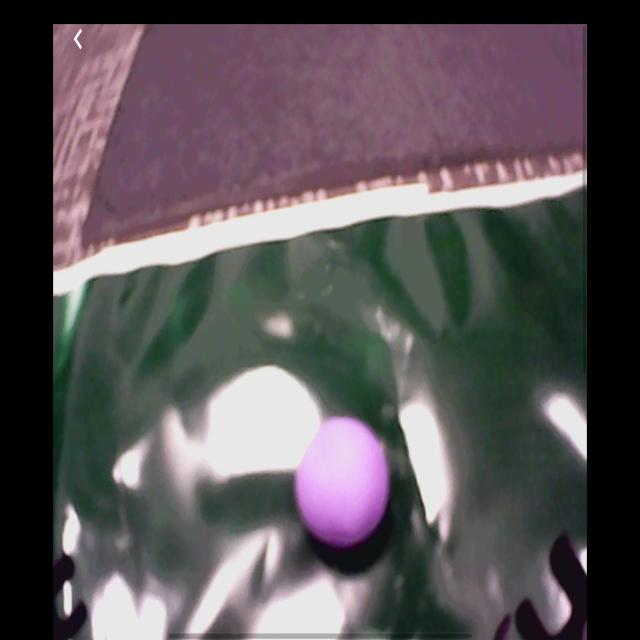ball: (297, 417, 390, 545)
